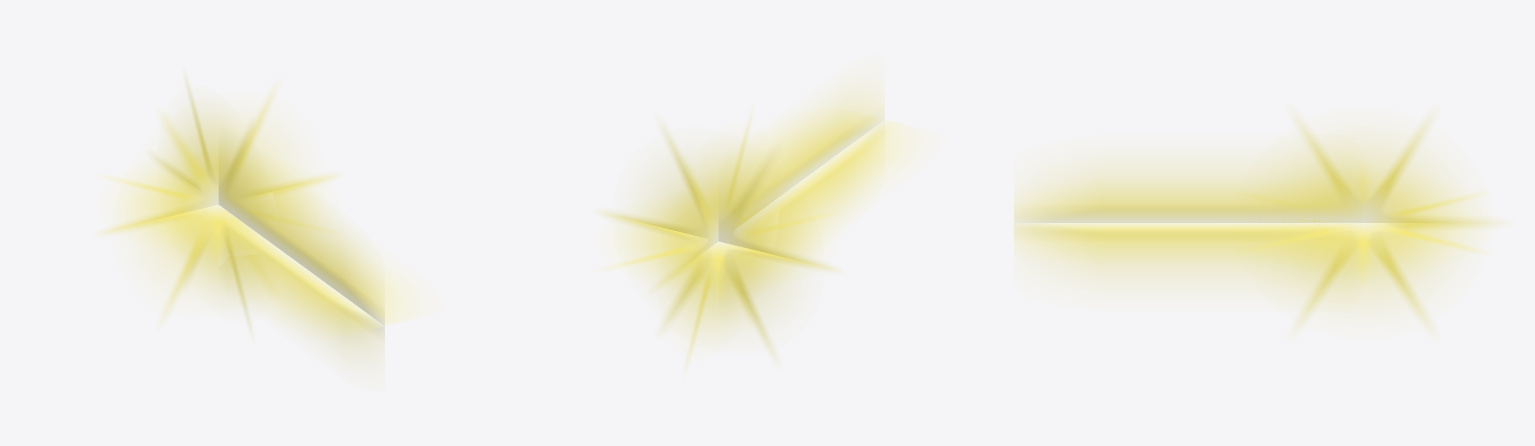
File: fx_beam.glb
The picture shows the model from 3 angles, left to right: view 1: azimuth 30°, elevation 25°; view 2: azimuth 150°, elevation 25°; view 3: azimuth 270°, elevation 25°; orthographic projection. The views are drawn at different scales.
Visible parts, largest first — view 1: fx_beam_star, fx_beam; view 2: fx_beam_star, fx_beam; view 3: fx_beam, fx_beam_star.
Part boxes in pixels (x1=…): fx_beam_star: x1=99, y1=80, x2=337, y2=328; fx_beam: x1=182, y1=152, x2=409, y2=358; fx_beam_star: x1=599, y1=117, x2=837, y2=365; fx_beam: x1=726, y1=87, x2=909, y2=250; fx_beam: x1=1014, y1=160, x2=1363, y2=285; fx_beam_star: x1=1245, y1=117, x2=1497, y2=328.
Size of the model in its own units: 0.9 by 0.9 by 1.45.
Materials: 2 (2 with a texture image).
